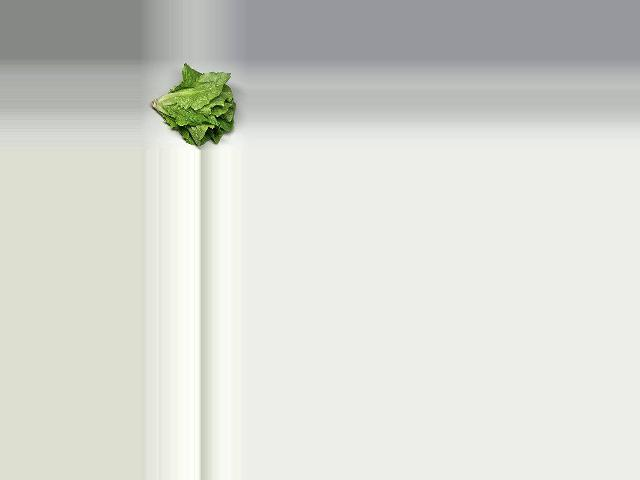lettuce: (147, 71, 240, 145)
